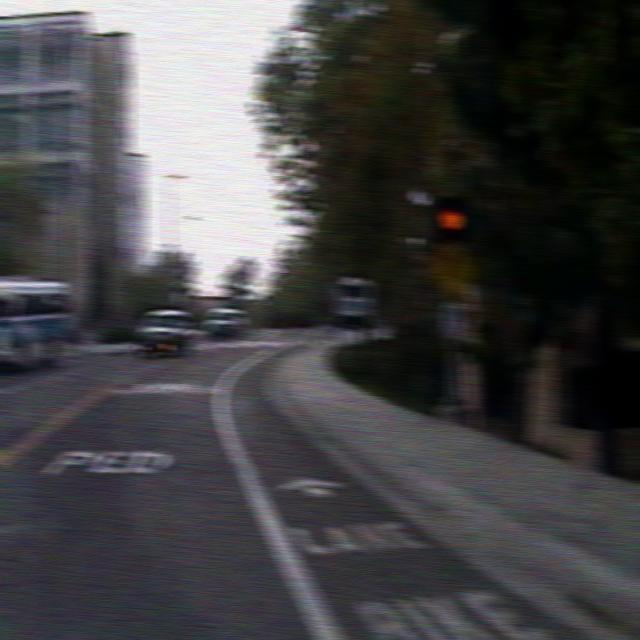pedestrianCrossing: (426, 236, 473, 299)
